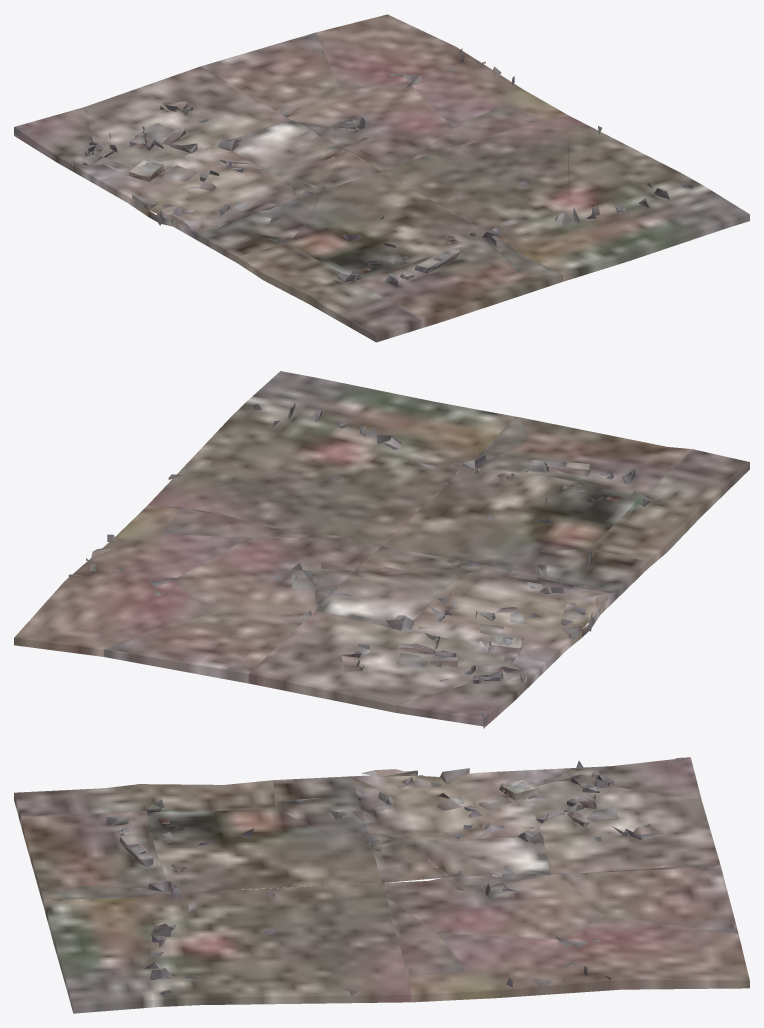
3 renders of one model, top to bottom at view 1: azimuth 30°, elevation 25°; view 2: azimuth 150°, elevation 25°; view 3: azimuth 270°, elevation 25°, orthographic. The views are drawn at different scales.
Visible parts, largest first — view 1: Mesh_0; view 2: Mesh_0; view 3: Mesh_0.
Boxes of the visible parts, x1=… form: Mesh_0: x1=14, y1=14, x2=749, y2=342; Mesh_0: x1=14, y1=371, x2=749, y2=728; Mesh_0: x1=14, y1=757, x2=749, y2=1013.
Size of the model in its own units: 2131 by 128 by 2637.
1 material, 1 textured.
